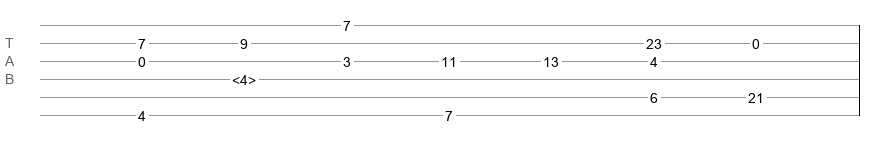0: (138, 54, 146, 64), (752, 36, 760, 46)
11: (441, 54, 457, 64)
13: (543, 54, 559, 64)
21: (748, 90, 764, 100)
23: (646, 36, 662, 46)
3: (343, 54, 351, 64)
4: (138, 108, 146, 118), (650, 54, 658, 64)
6: (650, 90, 658, 100)
7: (138, 36, 146, 46), (343, 18, 351, 28), (445, 108, 453, 118)
9: (240, 36, 248, 46)
harmonic: (232, 72, 256, 82)
